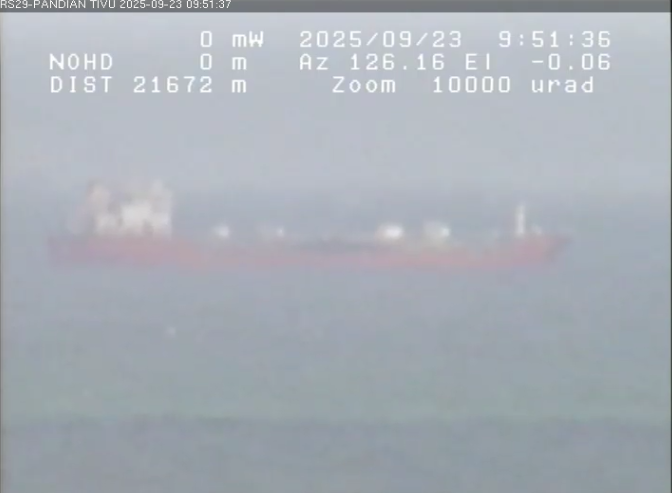CARGO_SHIPS: (30, 153, 605, 310)
